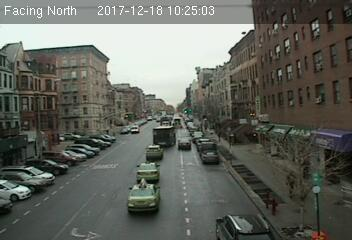car: (215, 210, 270, 240), (127, 180, 161, 211), (137, 161, 159, 179), (146, 144, 162, 158), (201, 150, 217, 164), (177, 138, 192, 149)
ups: (153, 126, 176, 147)
